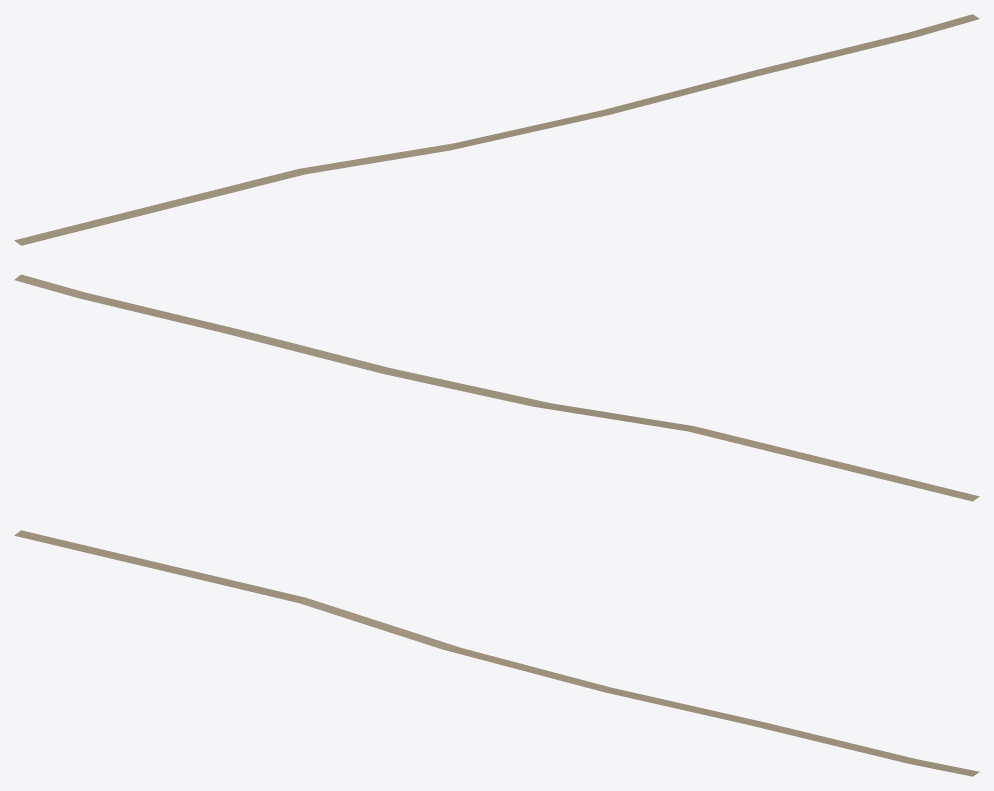
Rendered from farm_17_17_track.glb.
The picture shows the model from 3 angles, top to bottom: view 1: azimuth 30°, elevation 25°; view 2: azimuth 150°, elevation 25°; view 3: azimuth 330°, elevation 25°; orthographic projection.
Visible parts, largest first — view 1: geometry_0; view 2: geometry_0; view 3: geometry_0.
Boxes of the visible parts, x1,y1,x2,y2 form: geometry_0: (14,14,979,245); geometry_0: (14,274,979,501); geometry_0: (14,530,979,776).
Size of the model in its own units: 252 by 4.04 by 4.39.
